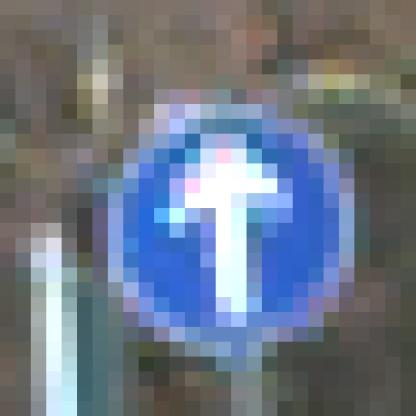AheadOnly: (93, 75, 340, 343)
